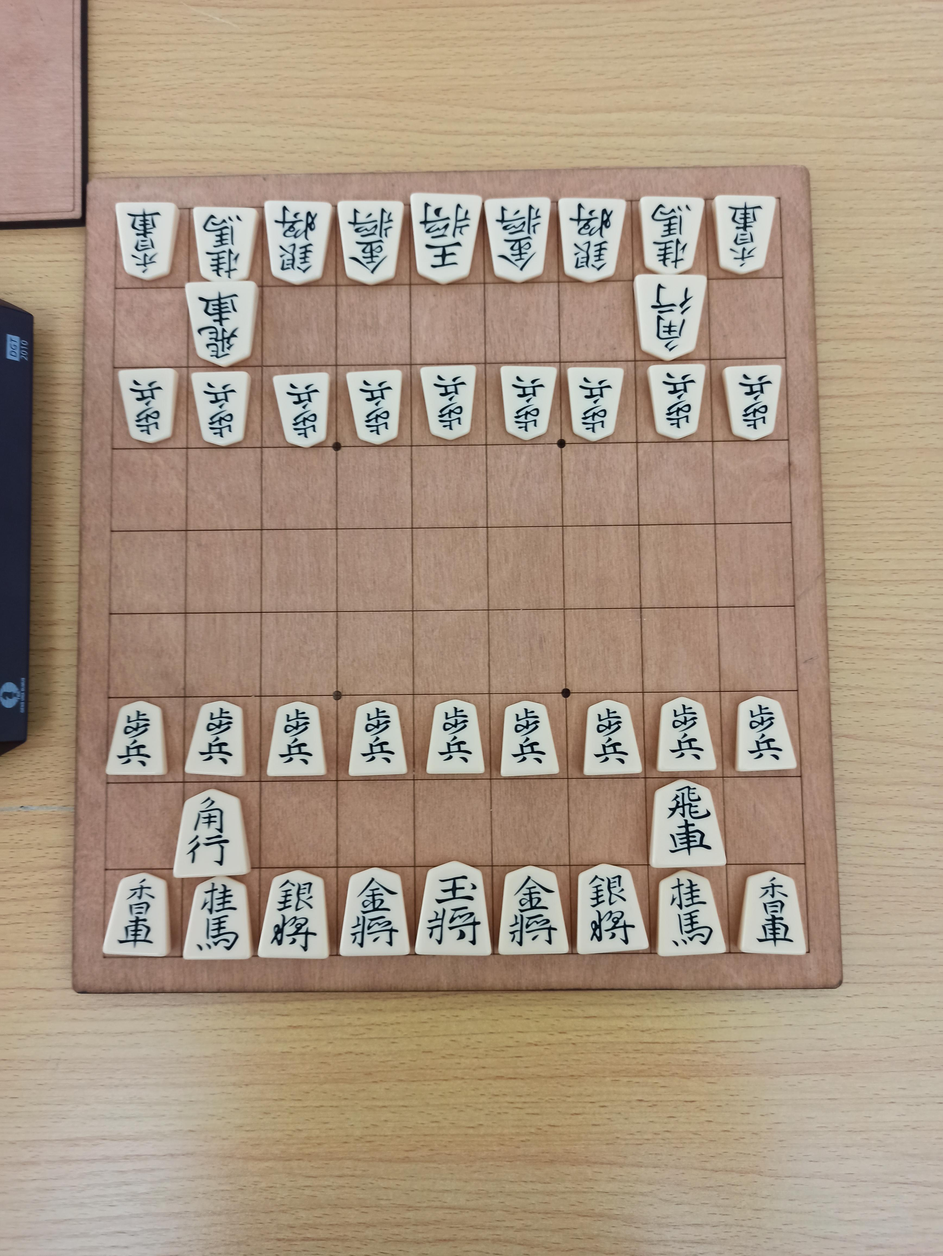board: (102, 197, 810, 956)
